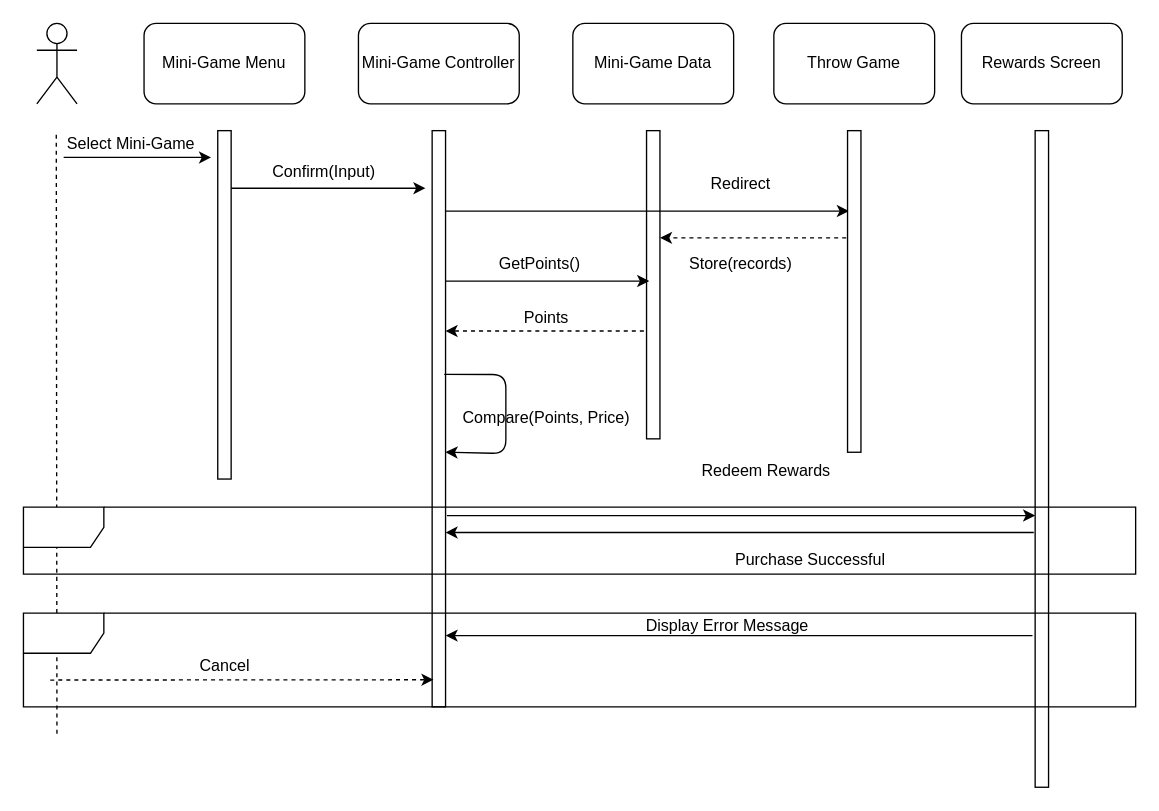
Image size: 1159x811. Some labels were removed from this diagram. Here are the shapes that lost their labels. From the top down, the box of each, then its label:
(36, 22, 77, 104): Actor
(22, 506, 1136, 574): Buy == Success
(22, 612, 1136, 707): Buy == fail
